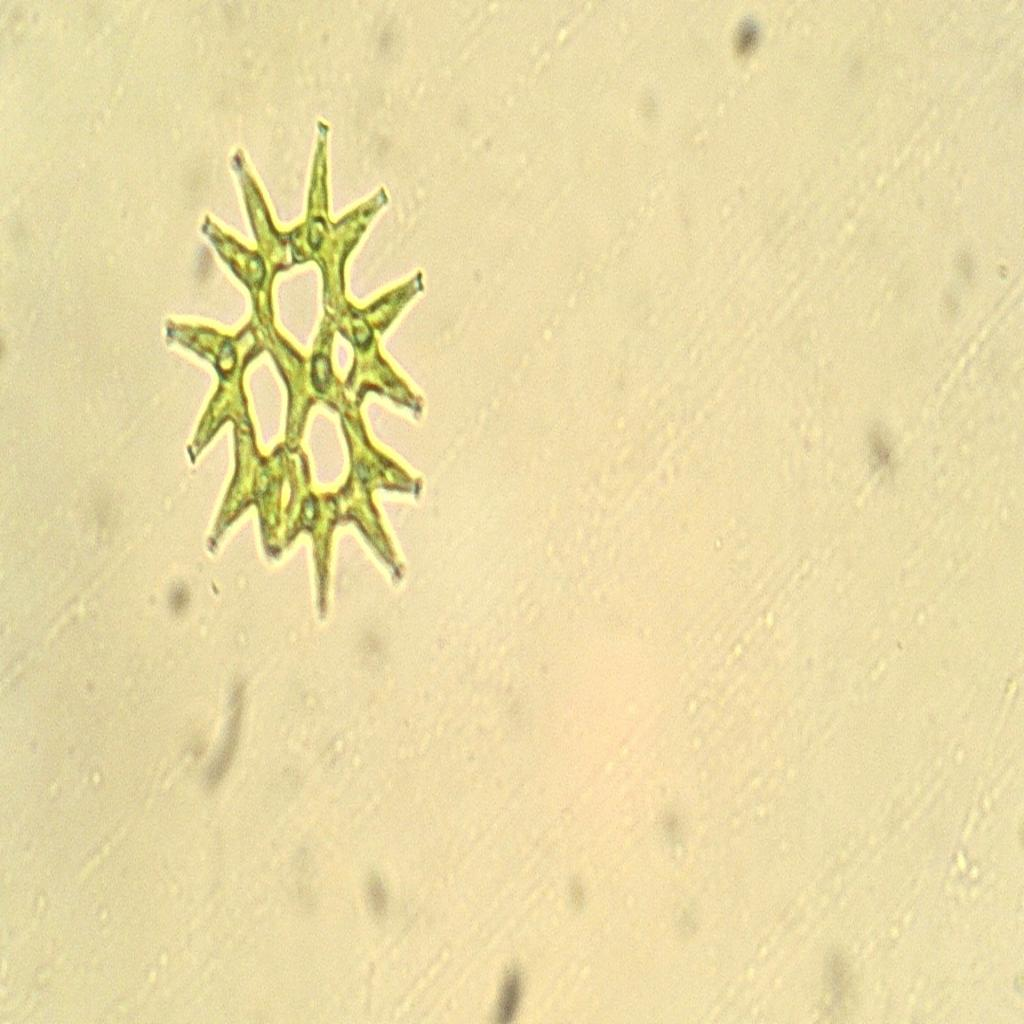Pediastrum_75T: (157, 106, 439, 638)
